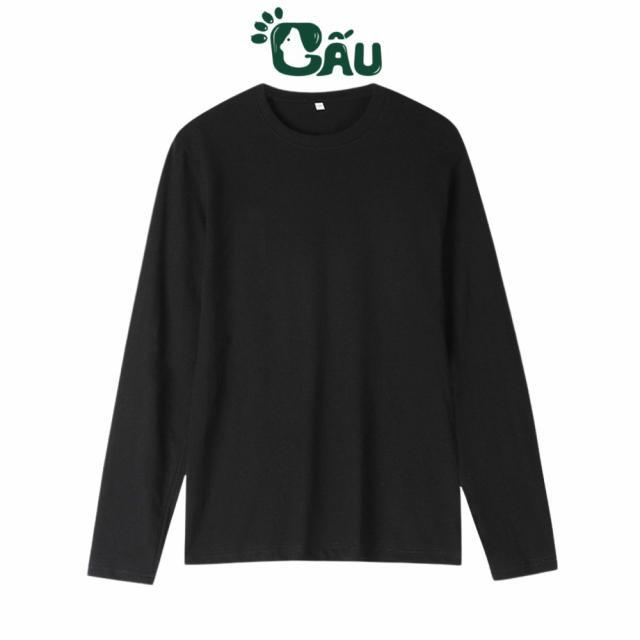Shirt: (85, 81, 559, 582)
